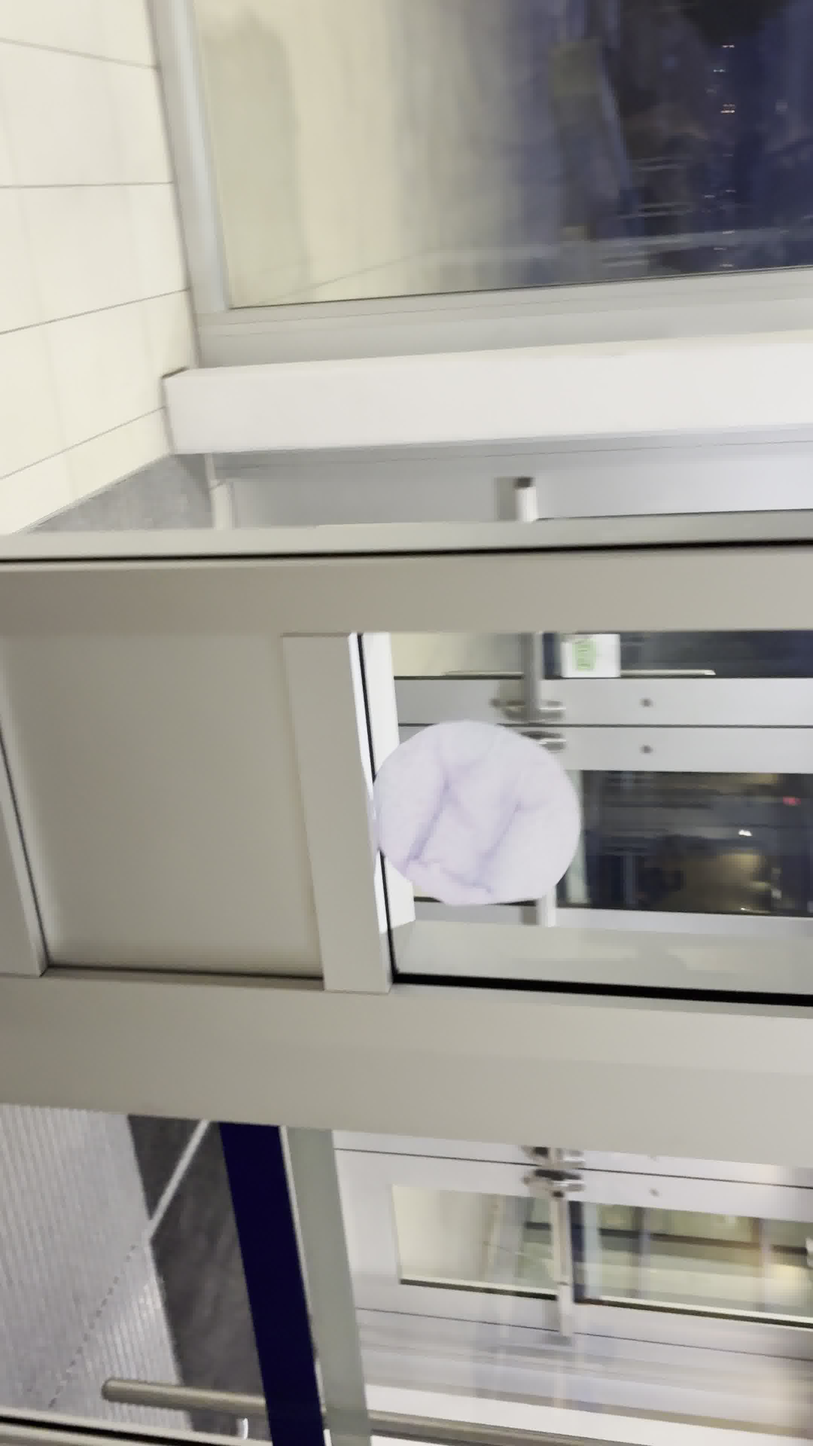Target: (364, 722, 590, 909)
